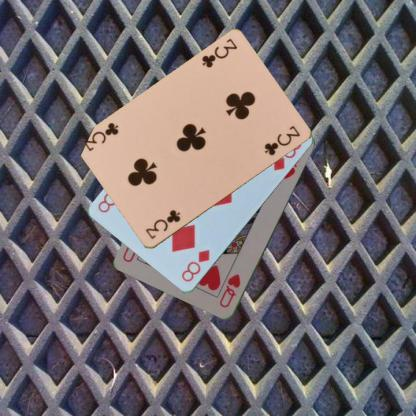3c: (198, 36, 238, 70), (143, 207, 181, 240)
8d: (178, 247, 212, 284)
Qh: (217, 272, 242, 310)
